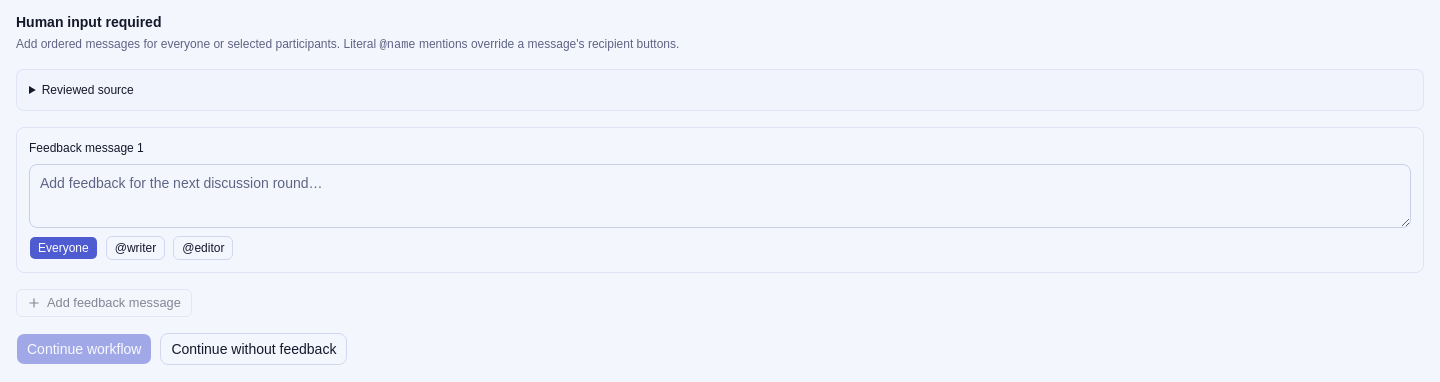
HumanInputPanel › inserts a recipient mention with the keyboard
Type "@ed" into the text box labelled "Feedback message 1" at x=720, y=196, box [29, 164, 1411, 228]
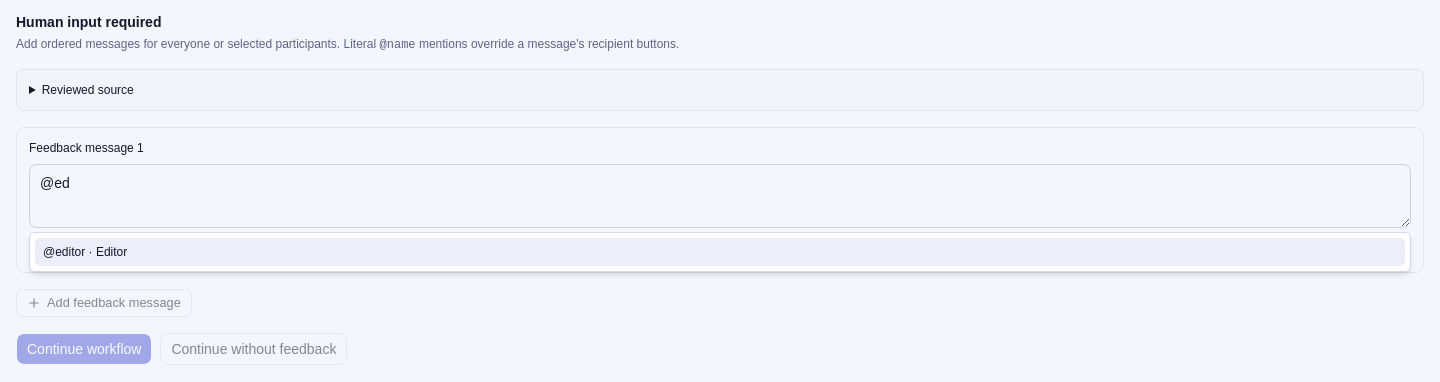
Press ArrowDown in the text box labelled "Feedback message 1", box [29, 164, 1411, 228]
Press Enter in the text box labelled "Feedback message 1", box [29, 164, 1411, 228]
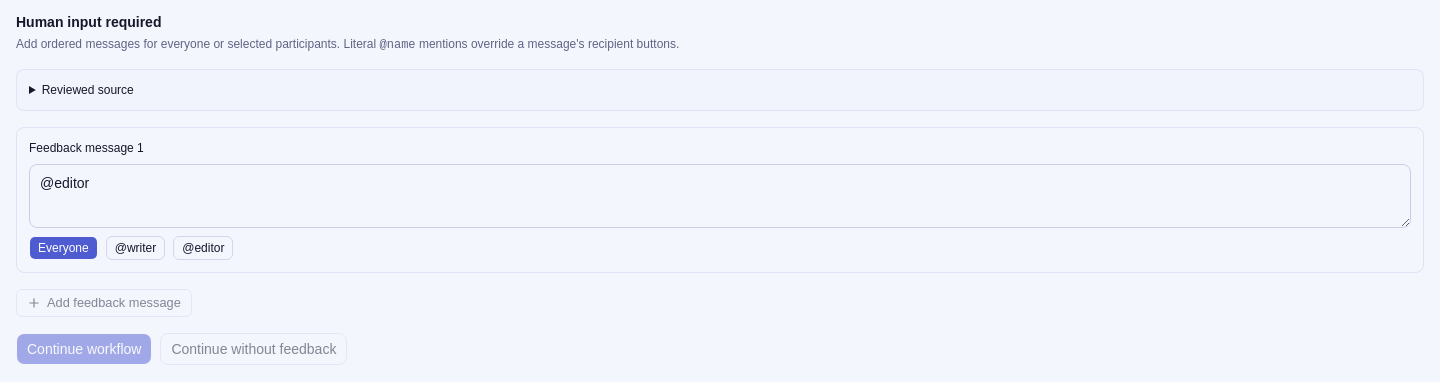
Expected: the text box labelled "Feedback message 1" holds "@editor ", [29, 164, 1411, 228]
